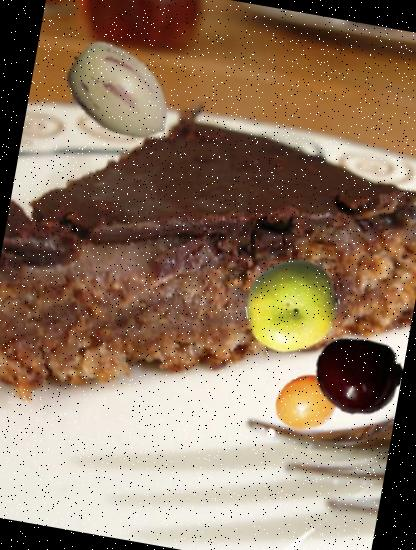Cherry: (306, 326, 406, 427)
Lemon: (268, 366, 341, 440)
Pepino: (52, 24, 188, 160)
Pomelo: (237, 250, 346, 360)
